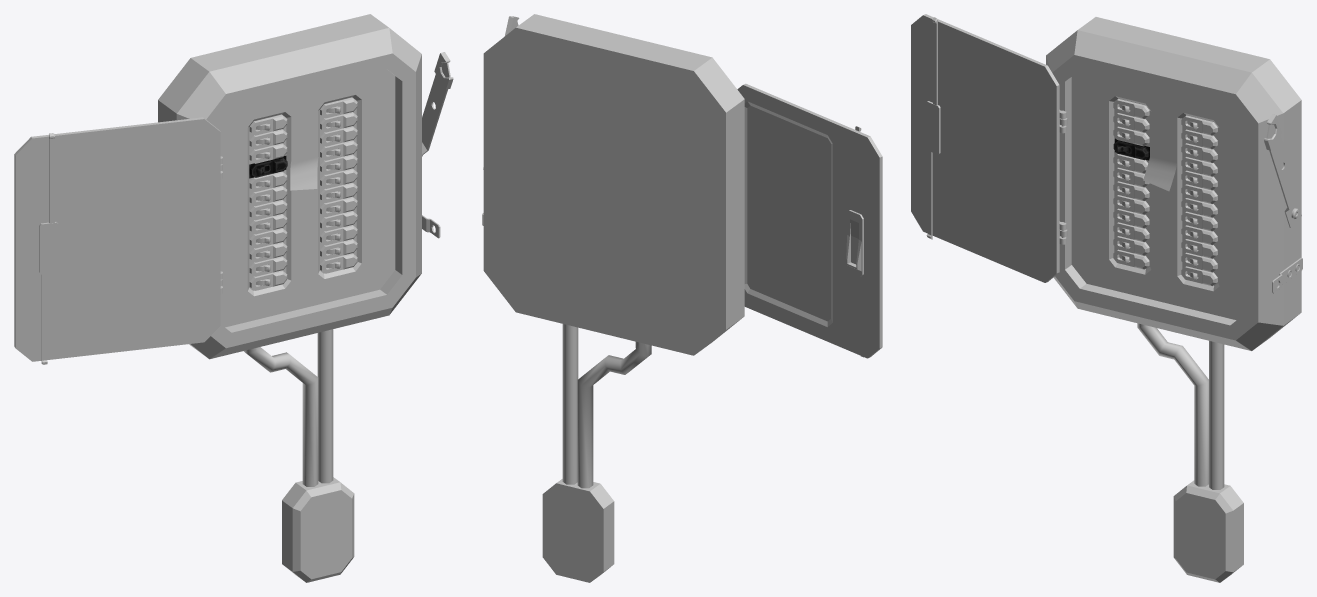
File: electrical box.FBX
3 renders of one model, left to right at view 1: azimuth 30°, elevation 25°; view 2: azimuth 150°, elevation 25°; view 3: azimuth 330°, elevation 25°, orthographic. The views are drawn at different scales.
Parts seen in each view (by area): view 1: Door, Electrical Box, Breaker Panel Face, Paper Labels, Conduit, Latch, Handle, Sticky, Breaker004, Breaker022, Breaker013, Breaker016 (+18 smaller); view 2: Electrical Box, Door, Conduit, Latch; view 3: Electrical Box, Breaker Panel Face, Door, Conduit, Paper Labels, Latch, Handle, Sticky, Breaker007, Breaker009, Breaker006, Breaker004 (+18 smaller).
Boxes of the visible parts, bbox=[...] form: Door: bbox=[14, 117, 220, 361]; Electrical Box: bbox=[158, 14, 421, 359]; Breaker Panel Face: bbox=[216, 69, 395, 327]; Paper Labels: bbox=[72, 141, 195, 331]; Conduit: bbox=[243, 329, 354, 582]; Latch: bbox=[39, 133, 58, 364]; Handle: bbox=[422, 52, 453, 156]; Sticky: bbox=[290, 157, 318, 190]; Breaker004: bbox=[319, 152, 357, 175]; Breaker022: bbox=[249, 254, 287, 277]; Breaker013: bbox=[249, 127, 287, 150]; Breaker016: bbox=[249, 170, 287, 192]; Electrical Box: bbox=[483, 14, 744, 355]; Door: bbox=[737, 83, 882, 358]; Conduit: bbox=[542, 324, 651, 582]; Latch: bbox=[846, 126, 863, 357]; Electrical Box: bbox=[1046, 17, 1301, 350]; Breaker Panel Face: bbox=[1071, 70, 1245, 320]; Door: bbox=[911, 14, 1059, 282]; Conduit: bbox=[1137, 323, 1243, 582]; Paper Labels: bbox=[951, 48, 1038, 255]; Latch: bbox=[925, 17, 940, 239]; Handle: bbox=[1264, 114, 1301, 227]; Sticky: bbox=[1143, 151, 1176, 191]; Breaker007: bbox=[1181, 210, 1218, 231]; Breaker009: bbox=[1181, 237, 1218, 259]; Breaker006: bbox=[1181, 196, 1218, 218]; Breaker004: bbox=[1181, 169, 1218, 190].
Bounding box in the file's own units: 29.31 × 37.7 × 5.36.
